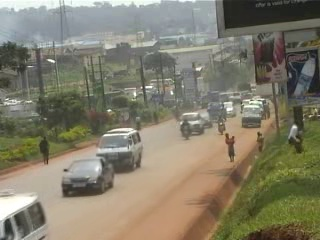Car: (57, 155, 116, 200), (193, 108, 216, 129), (221, 99, 235, 116)
Motorcycle: (177, 120, 194, 143), (215, 115, 229, 135)
